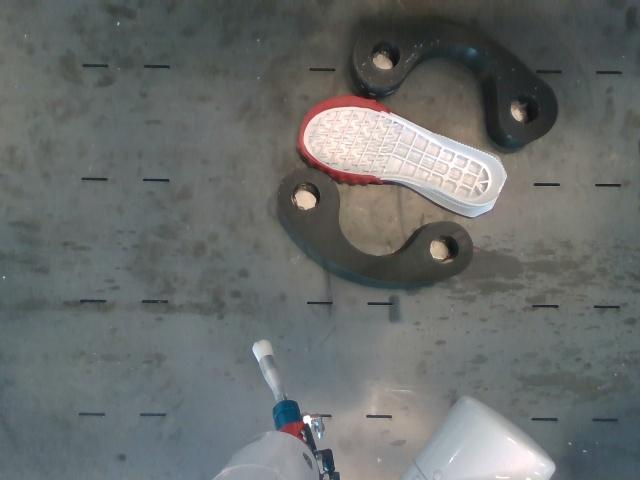shoes: (299, 96, 504, 205)
